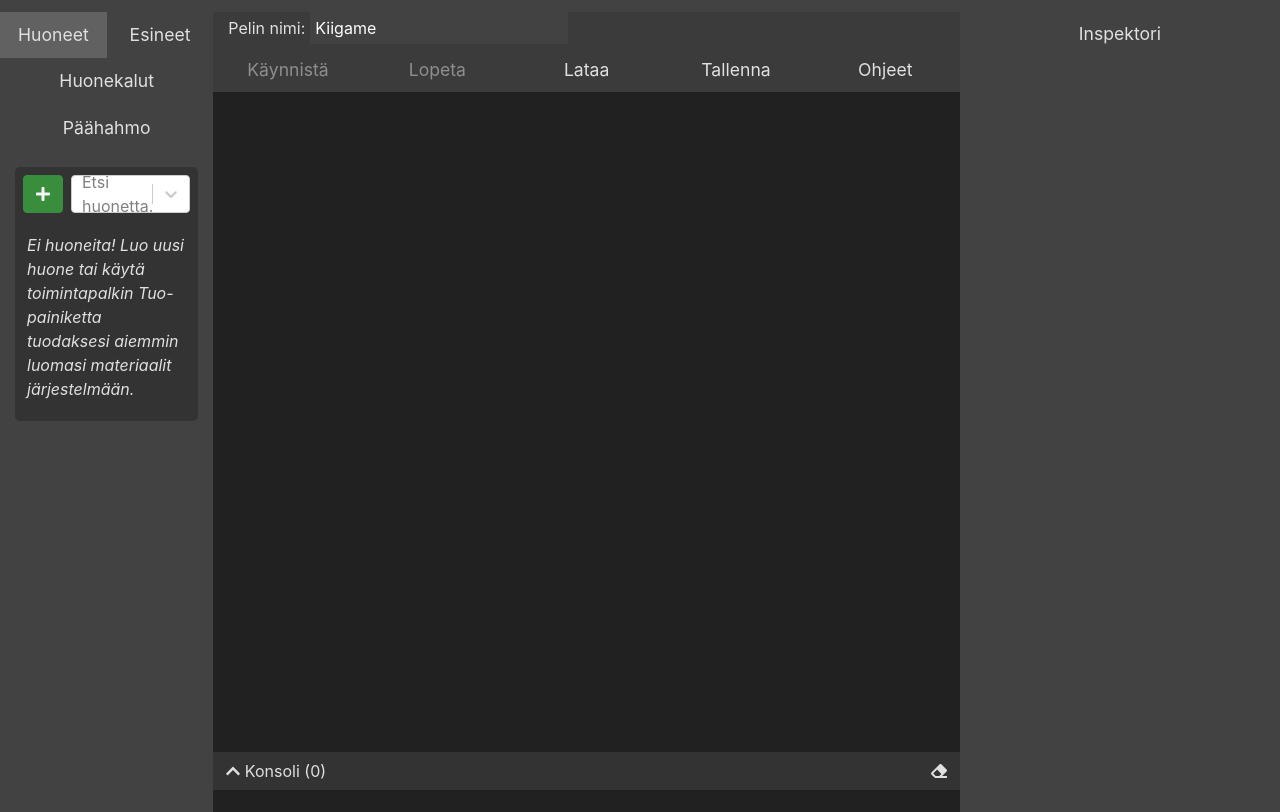
it: item creation › creates a new item
The width and height of the screenshot is (1280, 812).
Step 1. Click the text "Esineet" → (161, 35), box [130,24,191,45]
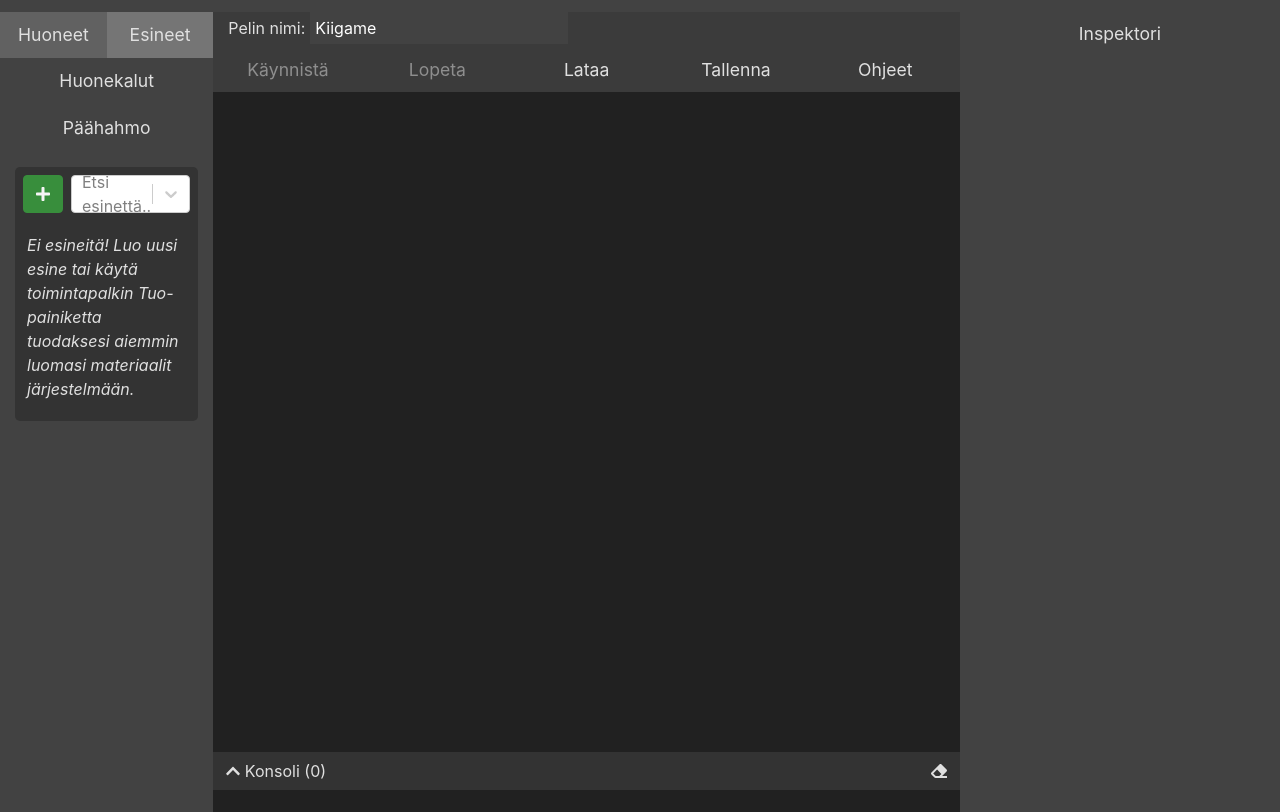
Step 2. Click the button with class "create-new-btn" → (43, 194), box [23,175,63,213]
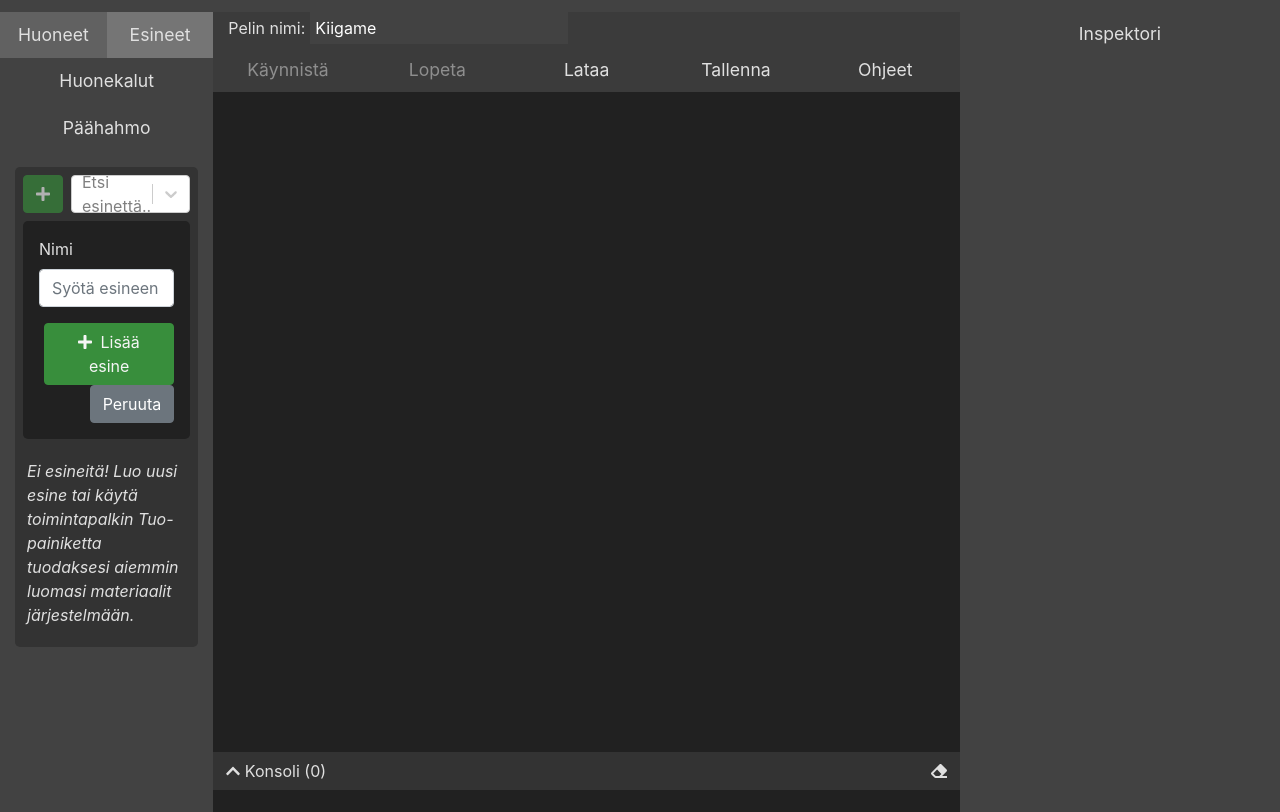
Step 3. Type "esine123" into the field with placeholder "Syötä esineen nimi" → (107, 288), box [39,269,174,307]
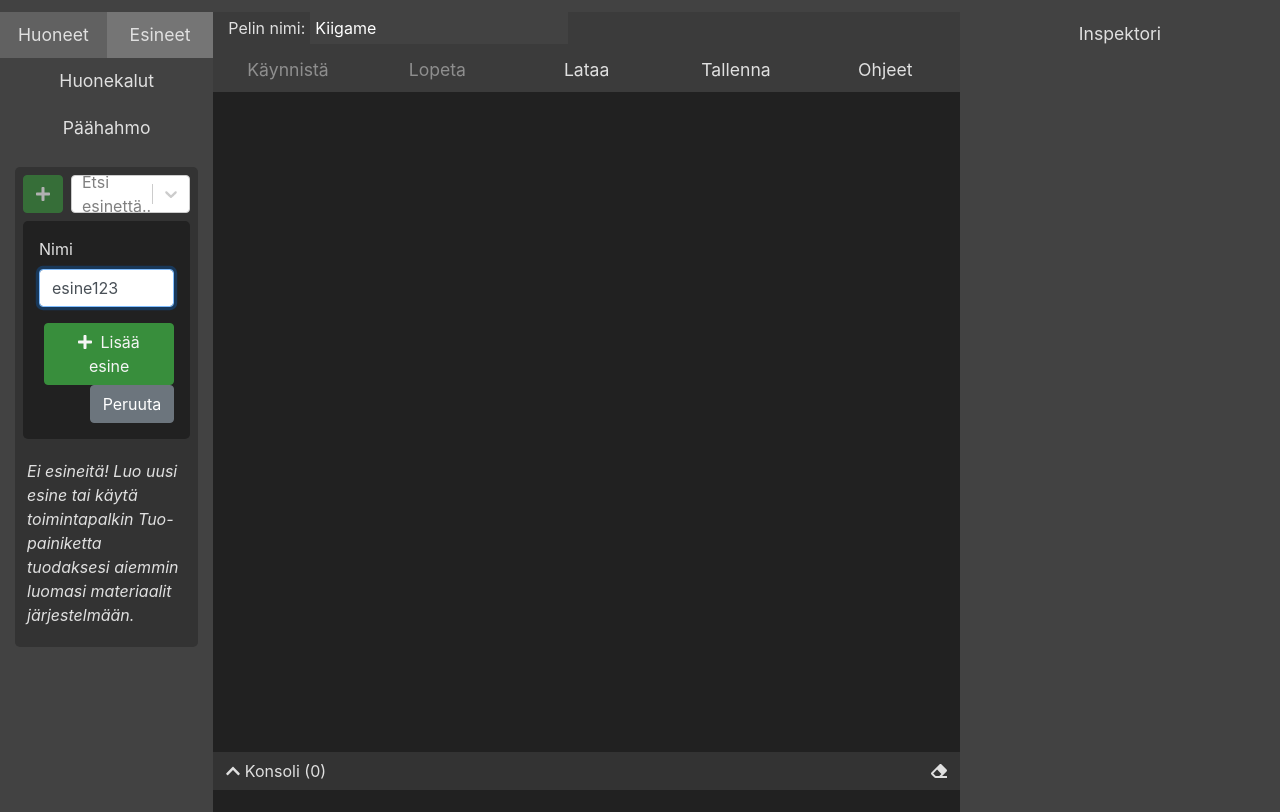
Step 4. Click the button "Lisää esine" → (109, 354), box [44,323,174,385]
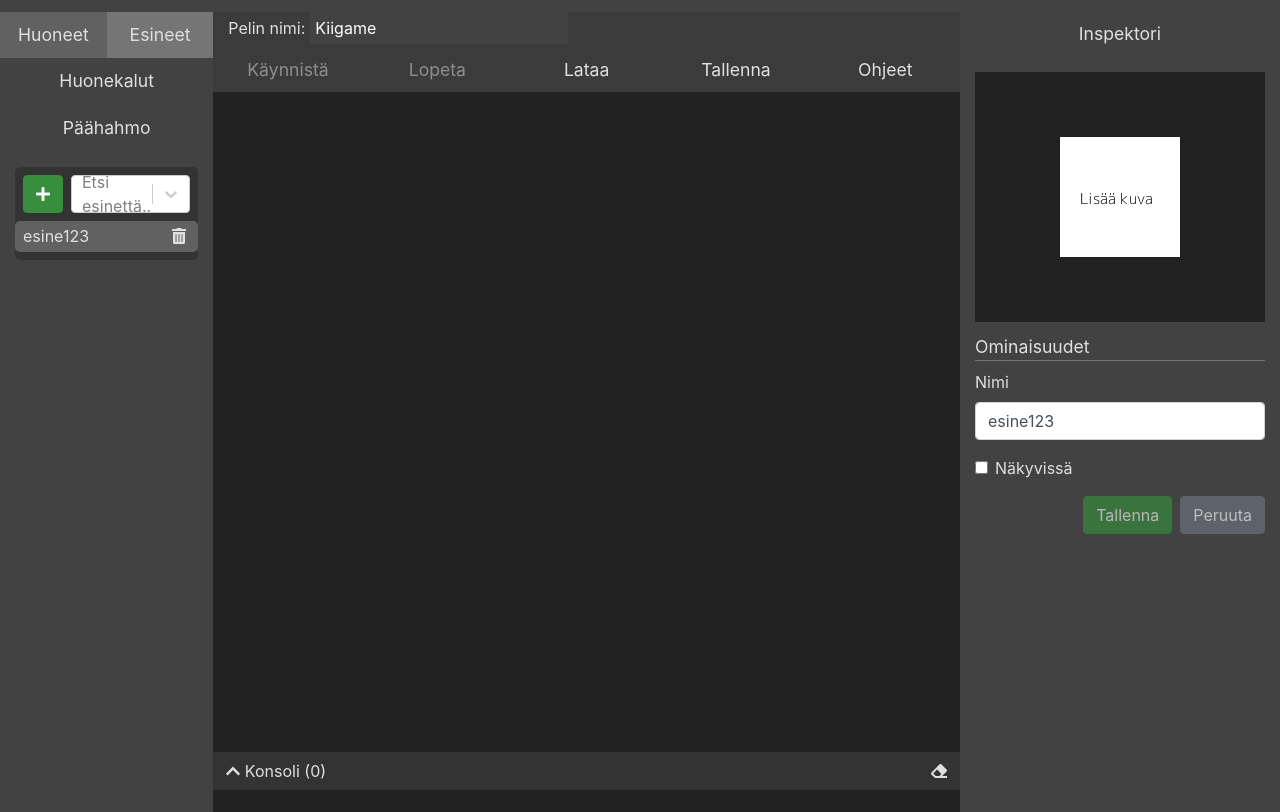
expect the text "esine123" is shown: met, box [23,224,89,248]
